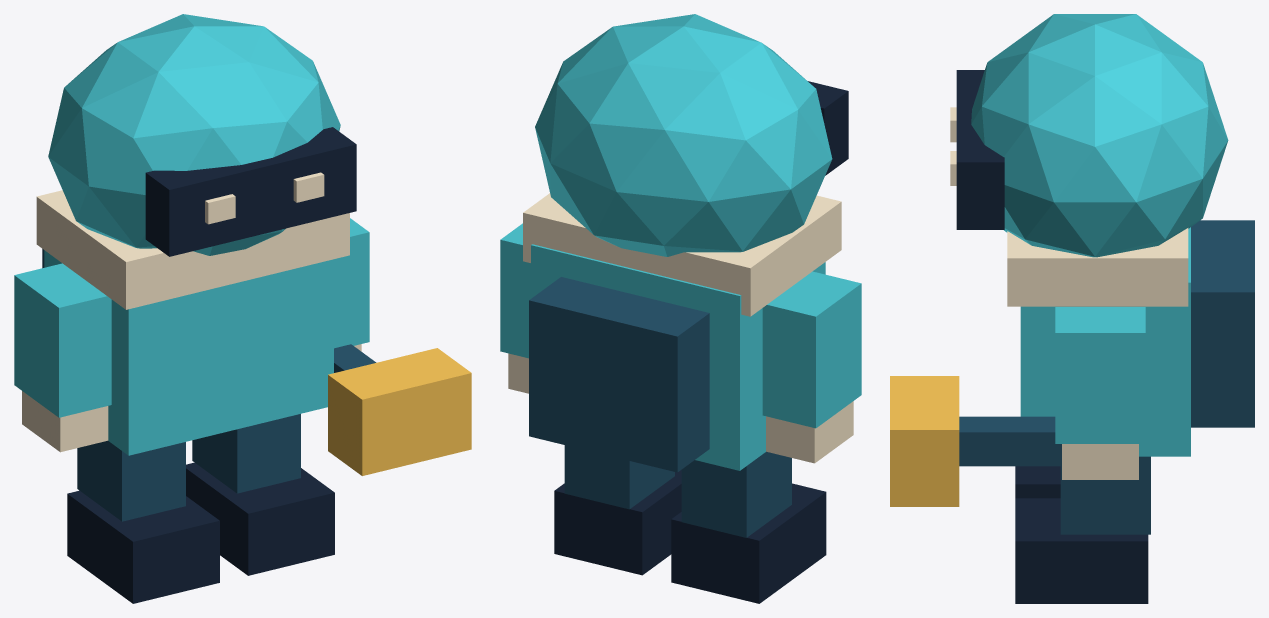
File: repairer-blue.glb
3 views of the same model, side by side, from view 1: azimuth 30°, elevation 25°; view 2: azimuth 150°, elevation 25°; view 3: azimuth 270°, elevation 25° (orthographic).
Parts seen in each view (by area): view 1: Helmet, Jacket, Visor, Scarf, Hammer Head, Sleeve, Boot, Boot.001, Trouser, Trouser.001, Sleeve.001, Glove (+3 smaller); view 2: Helmet, Kit, Jacket, Sleeve, Scarf, Boot, Boot.001, Trouser, Trouser.001, Sleeve.001, Glove, Visor (+1 smaller); view 3: Helmet, Kit, Sleeve.001, Jacket, Boot.001, Scarf, Hammer Head, Visor, Trouser.001, Hammer Handle, Glove.001, Boot.
Boxes of the visible parts, box(x1,y1,x2,y2) form: Helmet: box(48, 14, 340, 255); Jacket: box(44, 250, 333, 455); Visor: box(145, 127, 356, 256); Scarf: box(36, 190, 349, 309); Hammer Head: box(328, 348, 471, 475); Sleeve: box(14, 263, 111, 417); Boot: box(67, 490, 219, 603); Boot.001: box(186, 462, 334, 575); Trouser: box(77, 440, 185, 521); Trouser.001: box(192, 414, 300, 493); Sleeve.001: box(334, 218, 369, 348); Glove: box(22, 391, 108, 452); Helmet: box(535, 14, 832, 256); Kit: box(529, 277, 709, 472); Jacket: box(531, 244, 825, 470); Sleeve: box(762, 271, 861, 428); Scarf: box(523, 193, 841, 316); Boot: box(671, 483, 826, 603); Boot.001: box(554, 470, 681, 575); Trouser: box(681, 451, 791, 537); Trouser.001: box(564, 445, 674, 509); Sleeve.001: box(500, 223, 530, 358); Glove: box(766, 401, 853, 463); Visor: box(808, 81, 848, 175); Helmet: box(971, 14, 1228, 257); Kit: box(1191, 220, 1254, 427); Sleeve.001: box(1055, 307, 1145, 443); Jacket: box(1020, 227, 1190, 456); Boot.001: box(1015, 498, 1148, 603); Scarf: box(1007, 228, 1188, 306); Hammer Head: box(890, 376, 959, 506); Visor: box(956, 70, 1004, 229); Trouser.001: box(1060, 456, 1150, 534); Hammer Handle: box(959, 416, 1061, 466); Glove.001: box(1062, 444, 1138, 479); Boot: box(1015, 466, 1060, 498).
Bounding box in the file's own units: 0.725 × 1.1 × 0.685.
